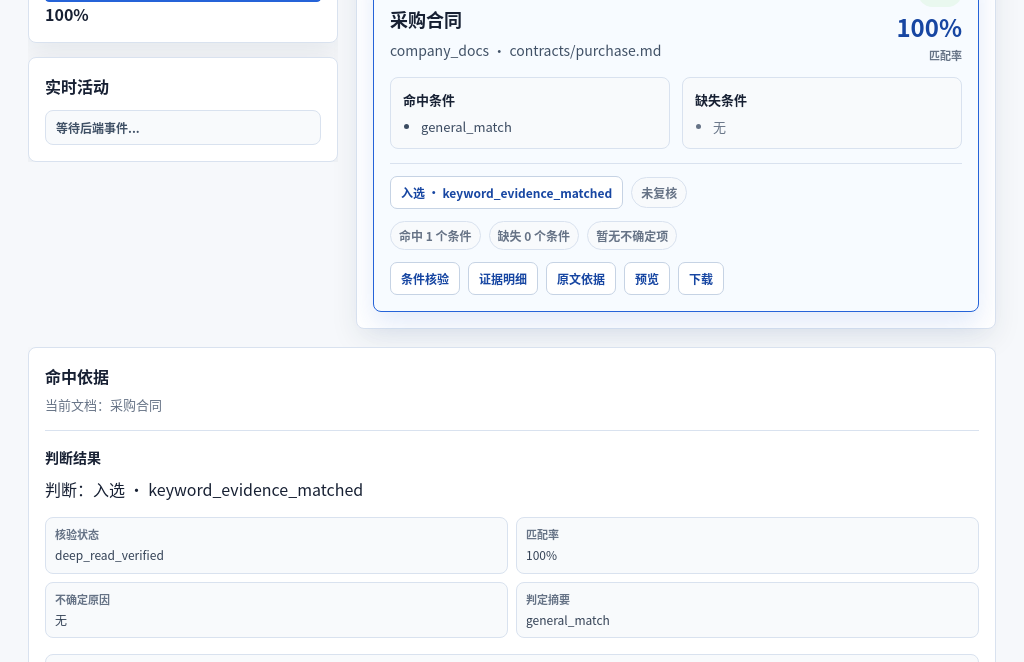
Test: TaskProgressPage › surfaces phase 3 fetch failures inside the document insight drawer
(page scrolled)
Expected: the heading "采购合同" is shown, left=390, top=6, right=462, bottom=32
Click the button with aria-label "查看采购合同条件核验" at (425, 279), box left=390, top=262, right=460, bottom=296
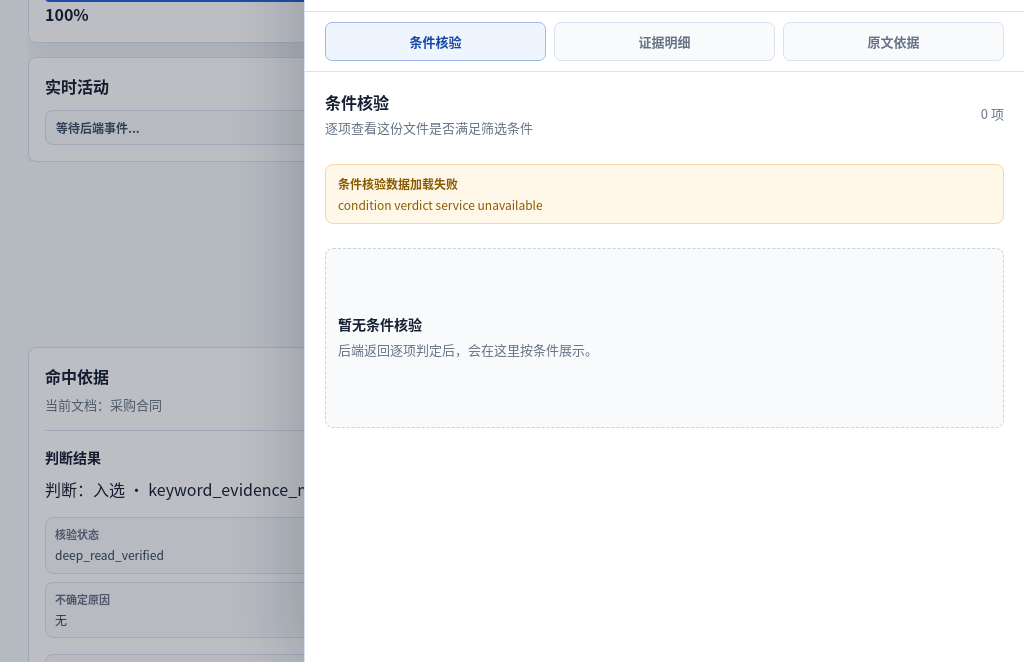
Now the text "condition verdict service unavailable" is shown, box left=338, top=196, right=543, bottom=212
Click the tab "证据明细" at (664, 41), box left=554, top=22, right=775, bottom=60
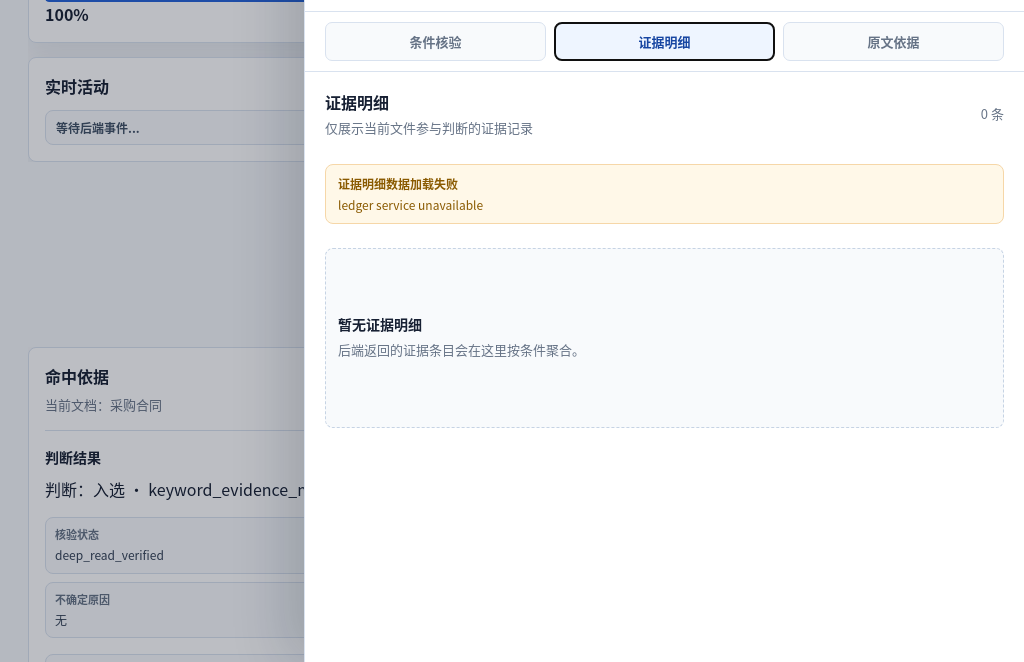
Now the text "ledger service unavailable" is shown, box left=338, top=196, right=483, bottom=212
Now the text "暂无证据明细" is shown, box left=338, top=314, right=422, bottom=334
